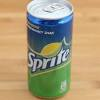sprite_can: (26, 1, 74, 98)
